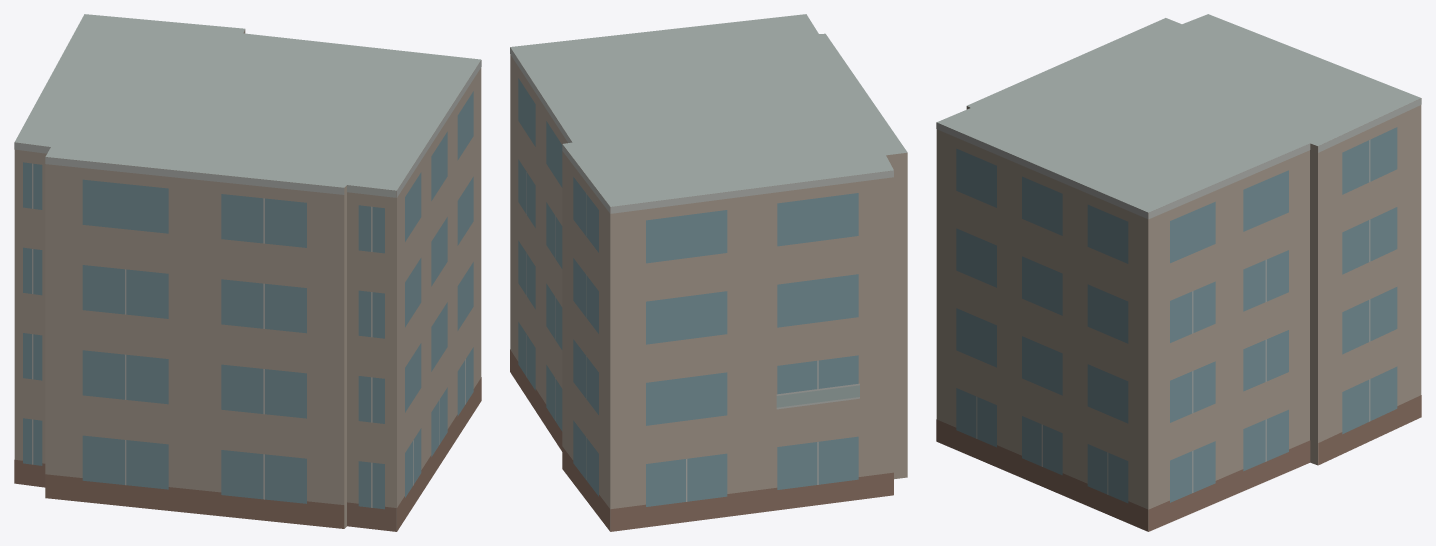
File: survey-upis-32771535.glb
3 views of the same model, side by side, from view 1: azimuth 30°, elevation 25°; view 2: azimuth 150°, elevation 25°; view 3: azimuth 270°, elevation 25° (orthographic). The views are drawn at different scales.
Visible parts, largest first — view 1: survey-upis-32771535.tmp; view 2: survey-upis-32771535.tmp; view 3: survey-upis-32771535.tmp.
Part boxes in pixels (x1=…): survey-upis-32771535.tmp: x1=14, y1=14, x2=481, y2=531; survey-upis-32771535.tmp: x1=510, y1=14, x2=907, y2=531; survey-upis-32771535.tmp: x1=936, y1=14, x2=1421, y2=531.
Bounding box in the file's own units: 15.34 × 11.49 × 15.83.
